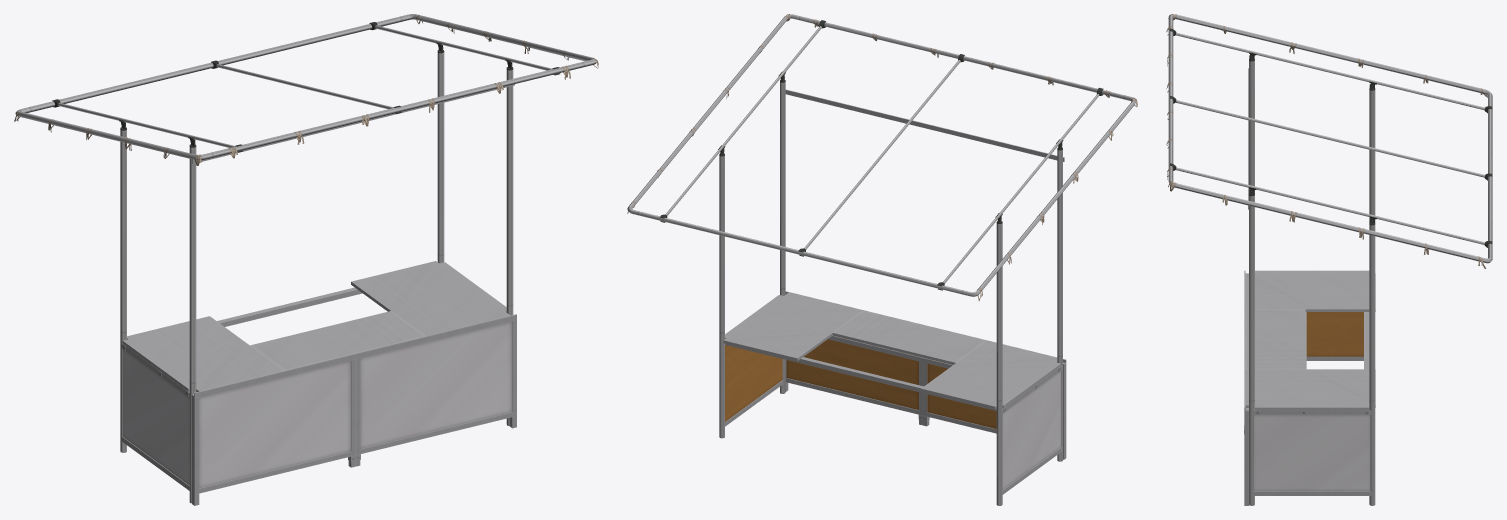
File: jsf_4P_s02_c04_t04.fbx
The picture shows the model from 3 angles, left to right: view 1: azimuth 30°, elevation 25°; view 2: azimuth 150°, elevation 25°; view 3: azimuth 270°, elevation 25°; orthographic projection. The views are drawn at different scales.
Parts seen in each view (by area): view 1: Base_s02_c04, Table_4P_s02_t04, Pillar4_s02, Rope_4P_s02; view 2: Base_s02_c04, Table_4P_s02_t04, Pillar4_s02, Rope_4P_s02; view 3: Pillar4_s02, Table_4P_s02_t04, Base_s02_c04, Rope_4P_s02.
Boxes of the visible parts, box(x1,y1,x2,y2) form: Base_s02_c04: box(121, 314, 516, 505); Table_4P_s02_t04: box(122, 261, 509, 396); Pillar4_s02: box(15, 14, 596, 503); Rope_4P_s02: box(14, 15, 598, 165); Base_s02_c04: box(725, 291, 1066, 494); Table_4P_s02_t04: box(723, 292, 1061, 412); Pillar4_s02: box(627, 14, 1136, 505); Rope_4P_s02: box(627, 14, 1137, 300); Pillar4_s02: box(1168, 14, 1492, 505); Table_4P_s02_t04: box(1245, 270, 1375, 414); Base_s02_c04: box(1244, 270, 1371, 505); Rope_4P_s02: box(1166, 14, 1487, 268).
Size of the model in its own units: 264 by 243 by 211.
